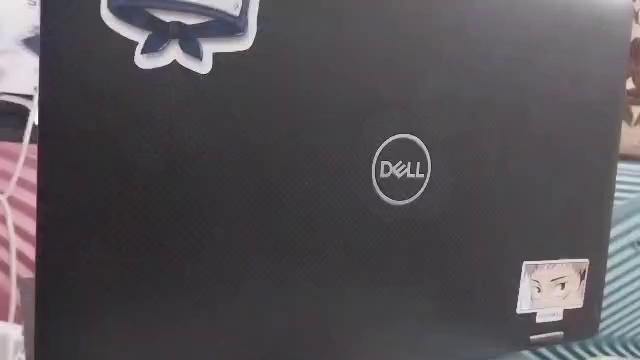laptop: (37, 2, 627, 356)
